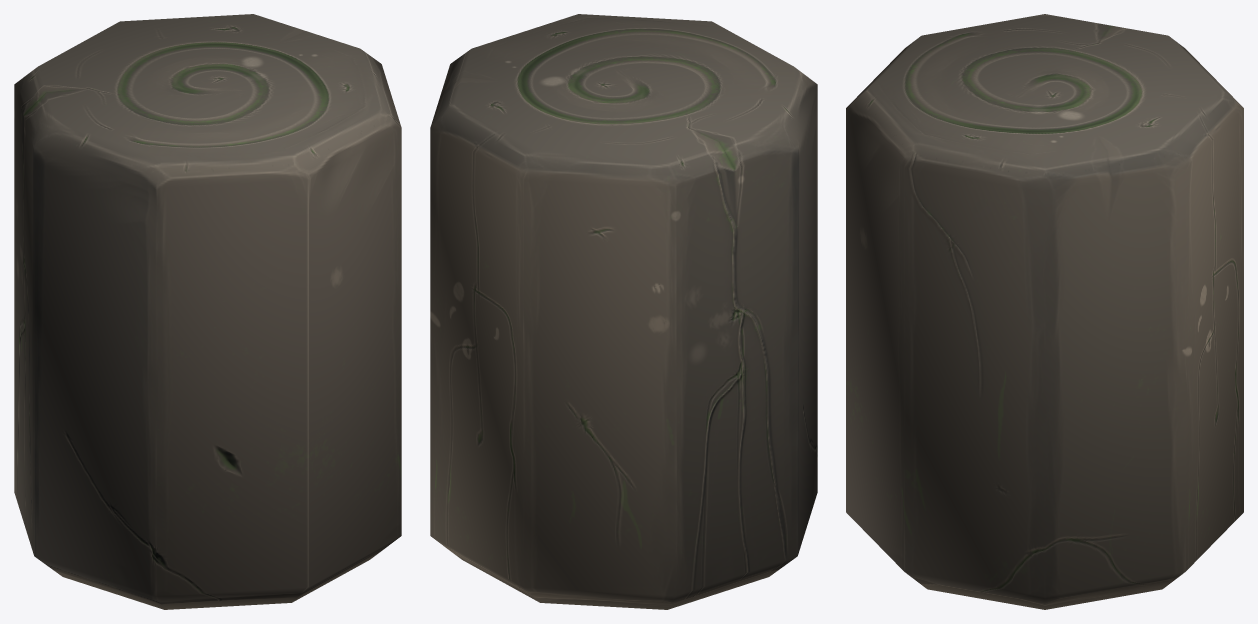
File: SM_Small_Rock_3_JFG.fbx
3 views of the same model, side by side, from view 1: azimuth 30°, elevation 25°; view 2: azimuth 150°, elevation 25°; view 3: azimuth 270°, elevation 25° (orthographic).
Parts seen in each view (by area): view 1: SM_Small_Rock_3_JFG; view 2: SM_Small_Rock_3_JFG; view 3: SM_Small_Rock_3_JFG.
Boxes of the visible parts, <box> form: SM_Small_Rock_3_JFG: <box>14,14,401,609</box>; SM_Small_Rock_3_JFG: <box>430,14,817,609</box>; SM_Small_Rock_3_JFG: <box>846,14,1243,609</box>.
Bounding box in the file's own units: 35.36 × 44.3 × 35.36.
